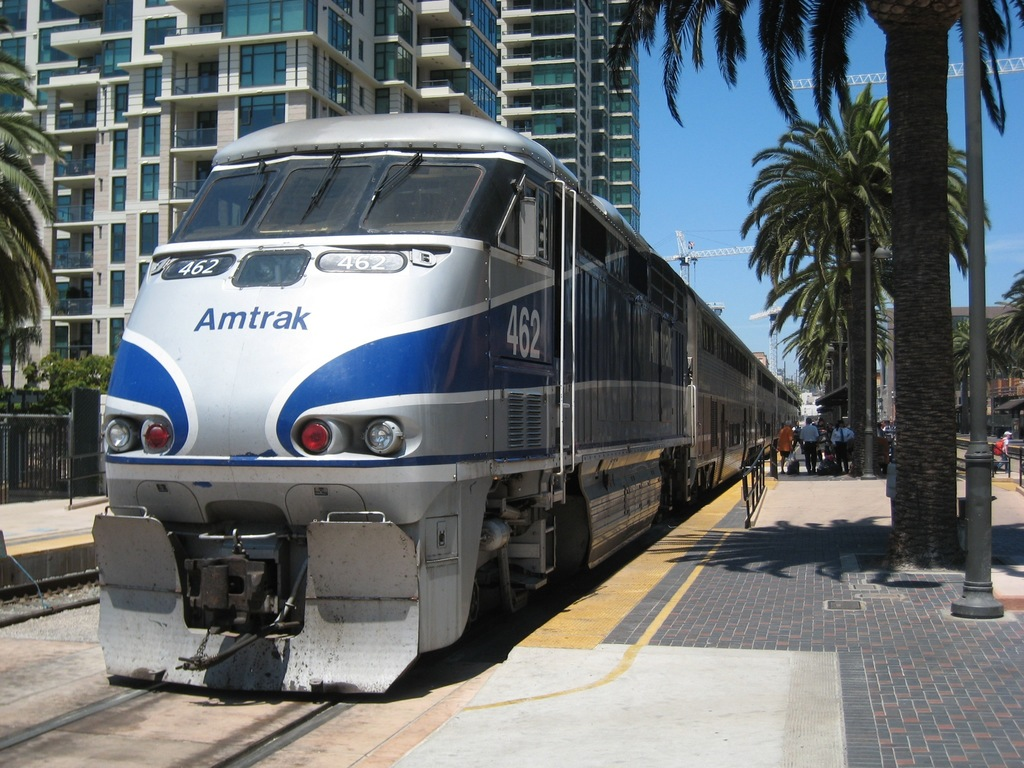train: (90, 111, 803, 702)
